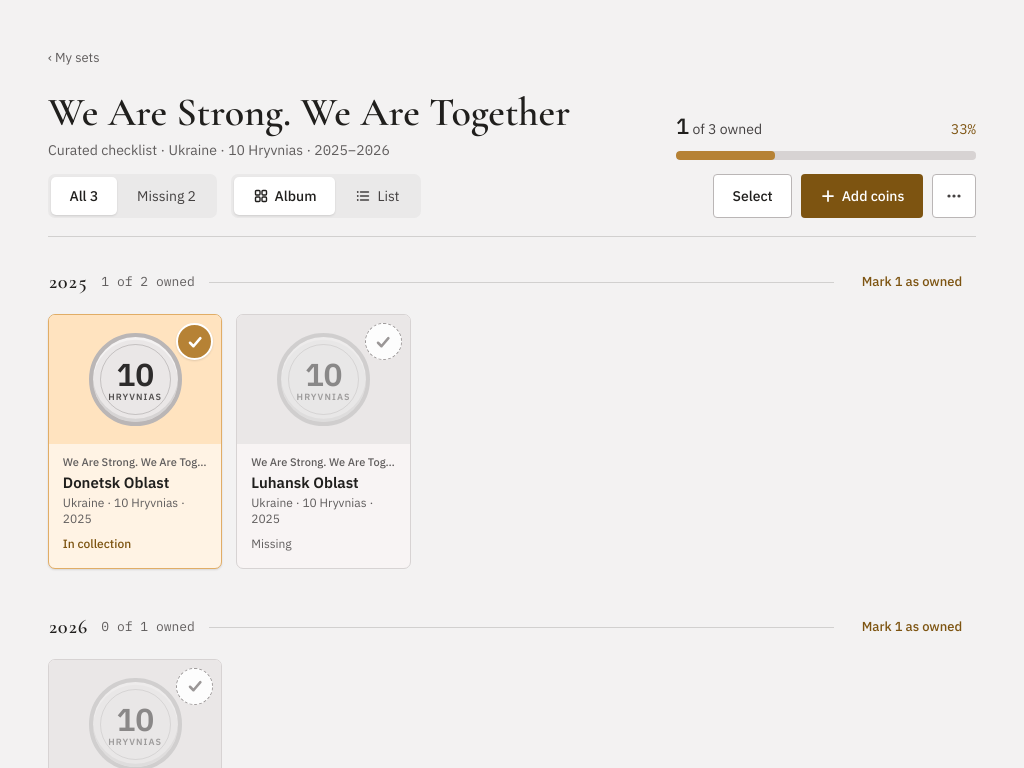
SetEditorPage: edge cases › criterion 8: pending, no double toggles › a quick double click sends exactly one request and marks the card pending and the check busy
This screenshot has width=1024, height=768.
Step 1. Double-click the button with test id "status-toggle" → (383, 342), box 361,320 -> 405,364
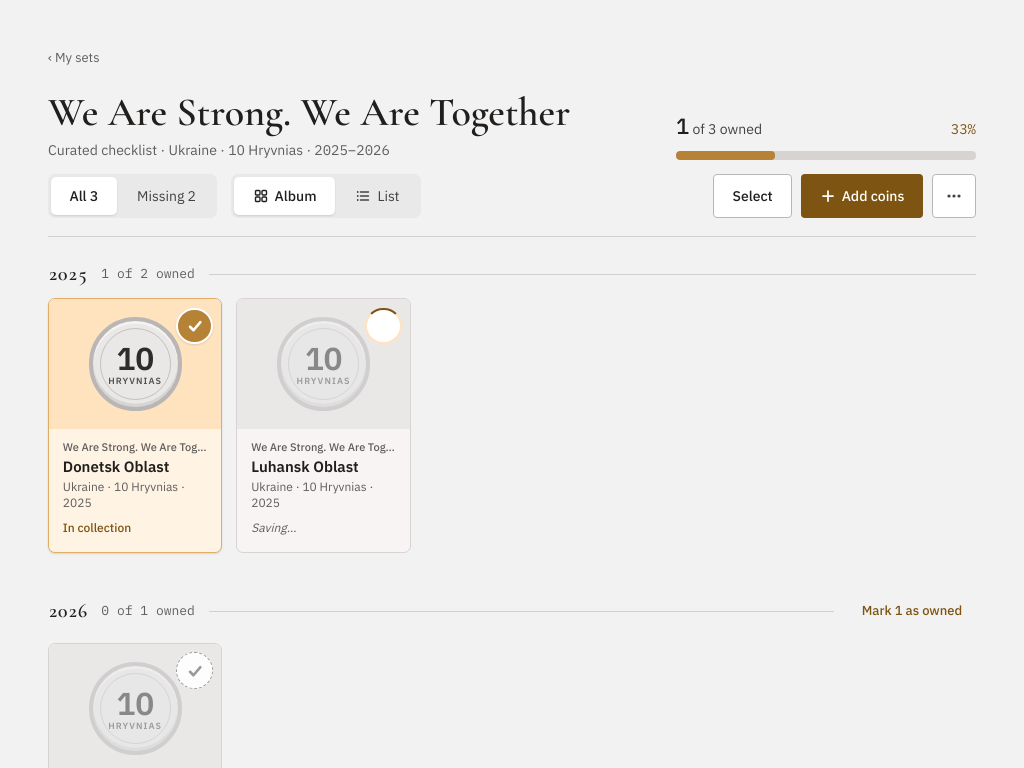
Result: the button with test id "status-toggle" is disabled at 361,304 -> 405,348
